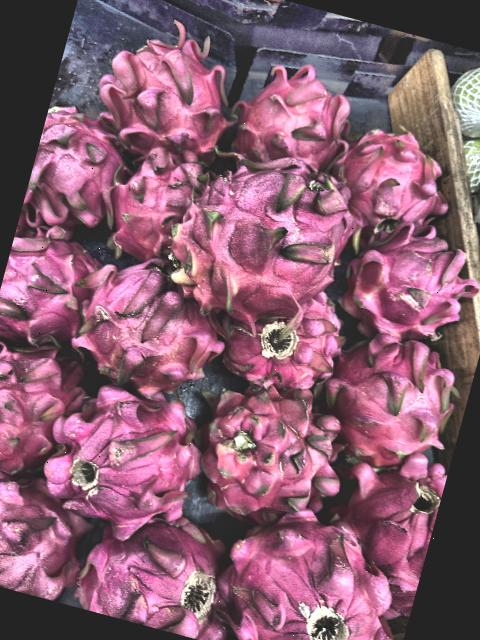buah-naga-matang: (157, 135, 358, 336), (37, 360, 224, 546), (201, 492, 421, 640), (178, 365, 360, 539), (56, 240, 239, 402), (306, 308, 470, 474), (87, 13, 249, 176), (306, 438, 449, 618), (68, 489, 234, 640), (318, 108, 456, 257), (95, 125, 223, 260), (349, 214, 474, 344), (215, 273, 347, 395), (19, 96, 128, 240), (0, 329, 91, 500), (223, 58, 356, 172), (0, 214, 105, 357), (0, 455, 94, 603)
